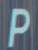Parking: (5, 1, 35, 49)
